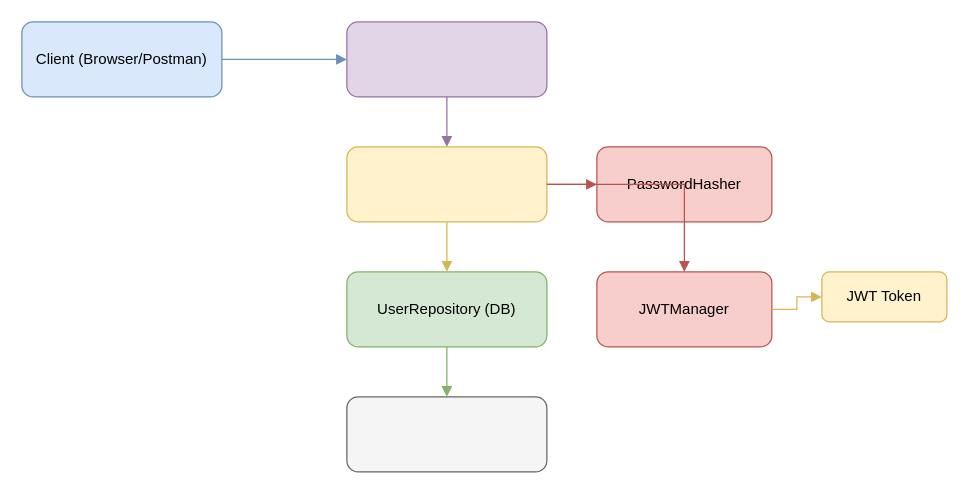
The diagram is 969 pixels wide and 494 high, and some of its shapes have lost their labels. Each missing label, with the centre of its shape:
"ClickHouse DB" goes at point 446,434.
"Handlers (register, login, protected)" goes at point 446,184.
"Server (Go)" goes at point 446,59.
